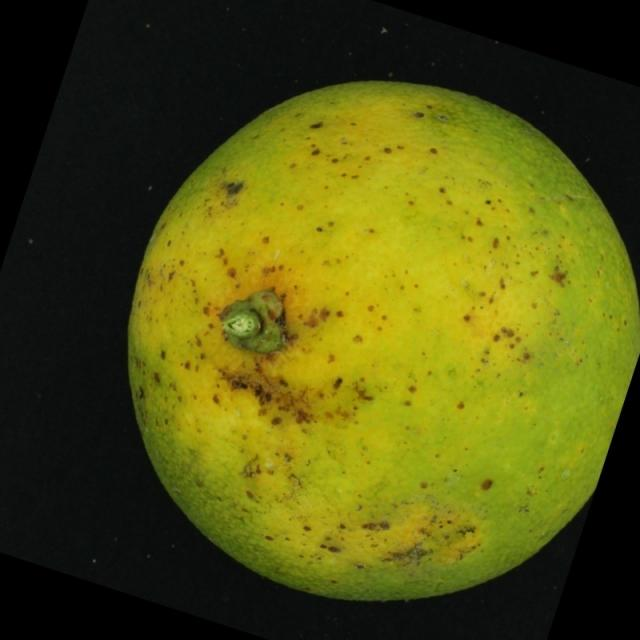grenning: (112, 56, 640, 628)
